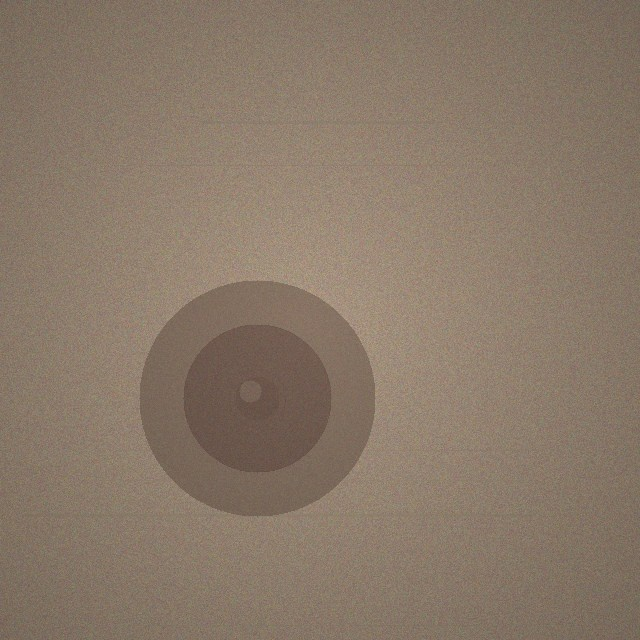good: (139, 280, 375, 516)
